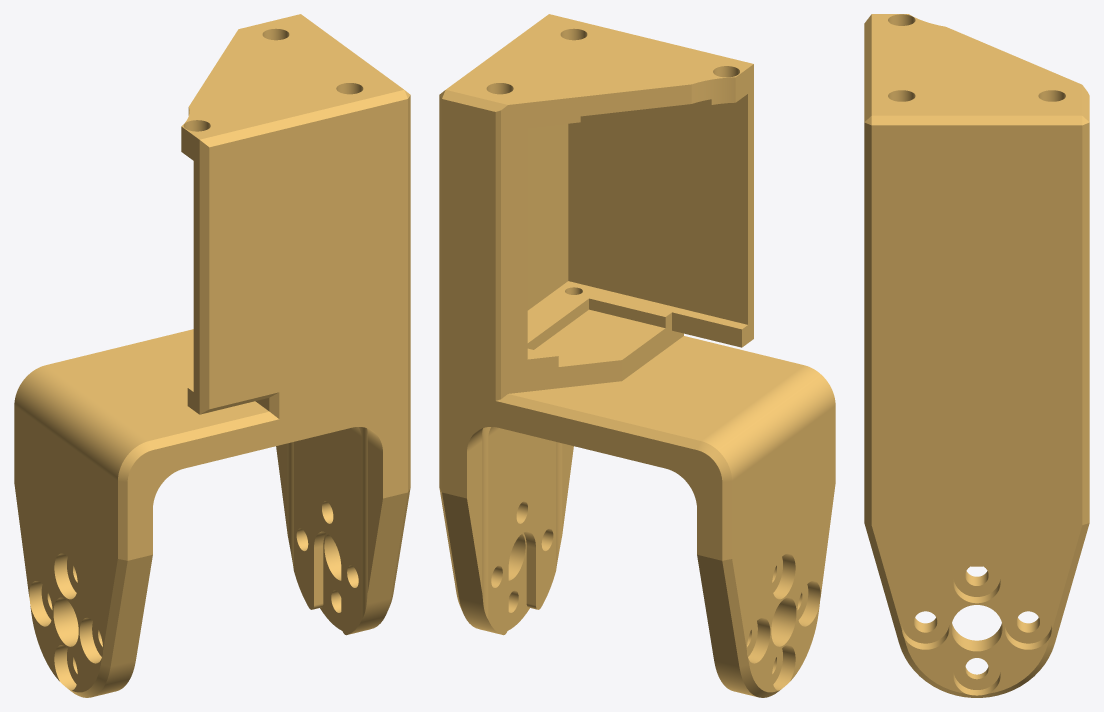
Rendered from left_roll_to_pitch.gltf.
3 renders of one model, left to right at view 1: azimuth 30°, elevation 25°; view 2: azimuth 150°, elevation 25°; view 3: azimuth 270°, elevation 25°, orthographic.
Parts seen in each view (by area): view 1: mesh213, mesh239, mesh266, mesh183, mesh222, mesh189, mesh176, mesh215, mesh168, mesh254, mesh174, mesh169 (+10 smaller); view 2: mesh253, mesh214, mesh239, mesh266, mesh256, mesh183, mesh222, mesh258, mesh189, mesh186, mesh252, mesh216 (+20 smaller); view 3: mesh202, mesh266, mesh167, mesh197, mesh175, mesh160, mesh165, mesh200, mesh205, mesh162, mesh163, mesh198 (+2 smaller).
Part boxes in pixels (<box>): mesh213: <box>127,99,407,560</box>; mesh239: <box>14,406,117,692</box>; mesh266: <box>181,14,403,139</box>; mesh183: <box>46,329,268,440</box>; mesh222: <box>293,428,361,635</box>; mesh189: <box>14,365,148,480</box>; mesh176: <box>199,140,209,414</box>; mesh215: <box>110,554,152,666</box>; mesh168: <box>366,492,407,603</box>; mesh254: <box>181,126,199,414</box>; mesh174: <box>200,90,407,147</box>; mesh169: <box>367,442,382,592</box>; mesh253: <box>568,94,747,324</box>; mesh214: <box>442,99,722,560</box>; mesh239: <box>732,406,835,692</box>; mesh266: <box>446,14,753,104</box>; mesh256: <box>501,84,691,398</box>; mesh183: <box>509,336,803,440</box>; mesh222: <box>488,428,556,635</box>; mesh258: <box>527,123,568,310</box>; mesh189: <box>701,365,835,480</box>; mesh186: <box>534,309,665,366</box>; mesh252: <box>527,281,747,359</box>; mesh216: <box>697,554,739,666</box>; mesh202: <box>871,125,1082,693</box>; mesh266: <box>871,14,1082,115</box>; mesh167: <box>864,122,871,524</box>; mesh197: <box>1082,122,1089,524</box>; mesh175: <box>871,115,1082,125</box>; mesh160: <box>953,653,1000,689</box>; mesh165: <box>902,606,948,643</box>; mesh200: <box>1005,606,1051,643</box>; mesh205: <box>953,560,1000,596</box>; mesh162: <box>899,643,1054,697</box>; mesh163: <box>864,523,905,644</box>; mesh198: <box>1048,523,1089,644</box>.
Size of the model in its own units: 0.0469 by 0.0876 by 0.0307.
